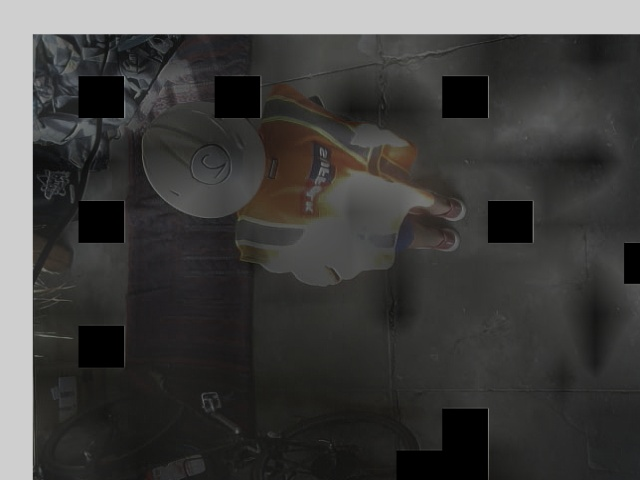two: (188, 143, 229, 186)
